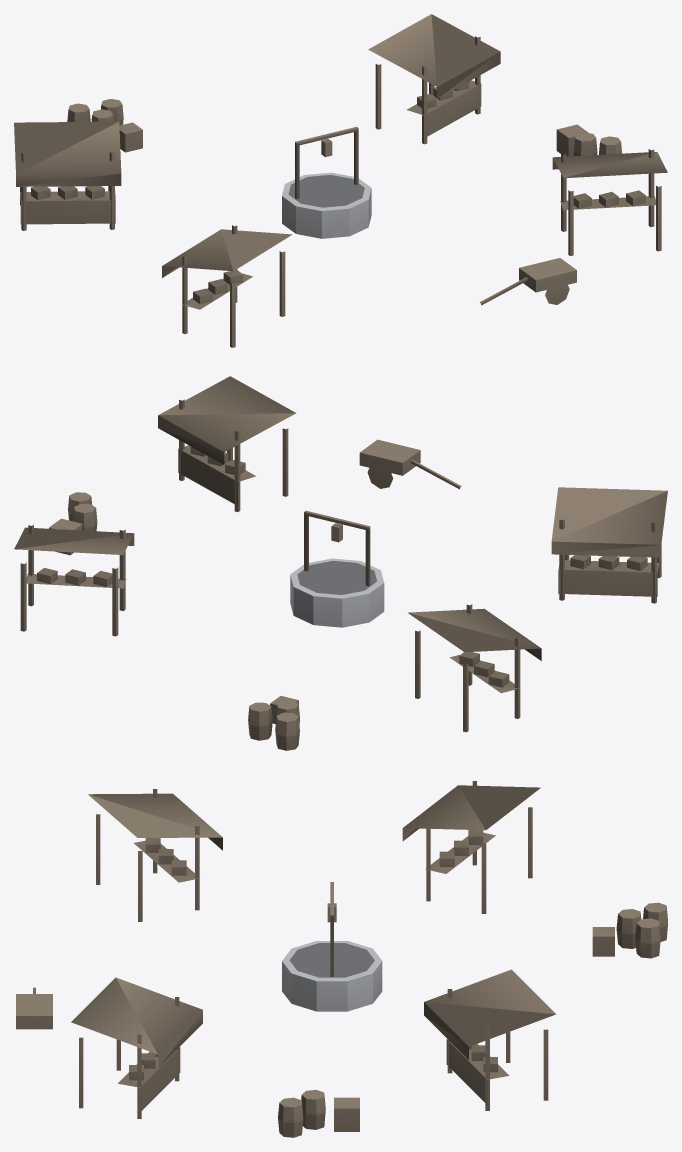
The model's file is sg_market.glb.
3 views of the same model, one above another, from view 1: azimuth 30°, elevation 25°; view 2: azimuth 150°, elevation 25°; view 3: azimuth 270°, elevation 25° (orthographic). The views are drawn at different scales.
Visible parts, largest first — view 1: sg_market_SG_Joinery, sg_market_SG_Stone; view 2: sg_market_SG_Joinery, sg_market_SG_Stone; view 3: sg_market_SG_Joinery, sg_market_SG_Stone.
Boxes of the visible parts, <box> form: sg_market_SG_Joinery: <box>14,14,667,347</box>; sg_market_SG_Stone: <box>282,172,371,238</box>; sg_market_SG_Joinery: <box>14,376,667,750</box>; sg_market_SG_Stone: <box>290,558,384,627</box>; sg_market_SG_Joinery: <box>16,781,667,1137</box>; sg_market_SG_Stone: <box>282,941,382,1011</box>.
Size of the model in its own units: 17.95 by 2.75 by 17.57.
